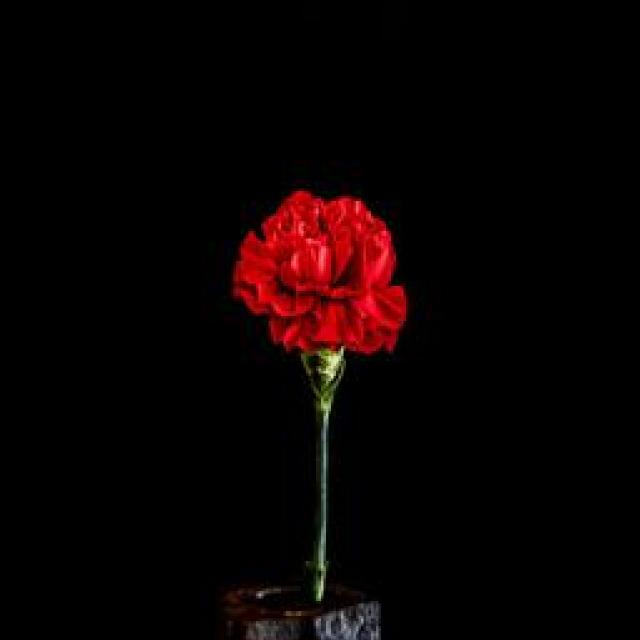carnation: (214, 168, 424, 384)
